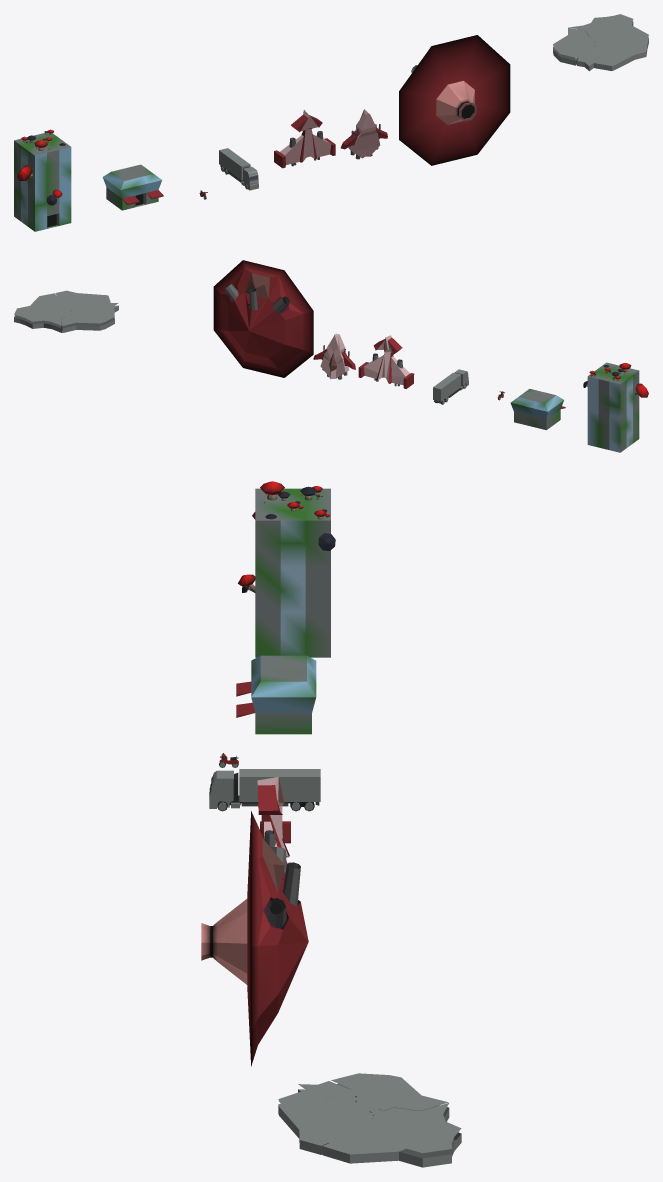
The model's file is naveRotation.fbx.
3 views of the same model, one above another, from view 1: azimuth 30°, elevation 25°; view 2: azimuth 150°, elevation 25°; view 3: azimuth 270°, elevation 25° (orthographic). The views are drawn at different scales.
Visible parts, largest first — view 1: AirshipMushroom, BuildingMushroom, StoreOld, EnemyKABOOM, MapDistrictTwo, MapDistrictThree, EnemyMENACE, TruckBig, MapDistrictOne; view 2: AirshipMushroom, BuildingMushroom, StoreOld, EnemyKABOOM, MapDistrictThree, EnemyMENACE, MapDistrictOne, MapDistrictTwo, TruckBig; view 3: BuildingMushroom, AirshipMushroom, MapDistrictThree, StoreOld, MapDistrictTwo, TruckBig, MapDistrictOne, EnemyKABOOM.
Part boxes in pixels (left/top/right/bottom): AirshipMushroom: left=399, top=35, right=510, bottom=165; BuildingMushroom: left=14, top=129, right=71, bottom=231; StoreOld: left=102, top=164, right=163, bottom=210; EnemyKABOOM: left=274, top=110, right=335, bottom=168; MapDistrictTwo: left=577, top=38, right=647, bottom=71; MapDistrictThree: left=569, top=14, right=648, bottom=48; EnemyMENACE: left=340, top=109, right=387, bottom=159; TruckBig: left=219, top=148, right=258, bottom=190; MapDistrictOne: left=553, top=27, right=595, bottom=65; AirshipMushroom: left=213, top=260, right=313, bottom=377; BuildingMushroom: left=583, top=362, right=648, bottom=452; StoreOld: left=510, top=389, right=565, bottom=430; EnemyKABOOM: left=358, top=335, right=414, bottom=388; MapDistrictThree: left=14, top=293, right=73, bottom=332; EnemyMENACE: left=313, top=333, right=355, bottom=379; MapDistrictOne: left=61, top=309, right=114, bottom=332; MapDistrictTwo: left=55, top=290, right=118, bottom=312; TruckBig: left=433, top=369, right=468, bottom=404; BuildingMushroom: left=238, top=481, right=335, bottom=657; AirshipMushroom: left=201, top=811, right=308, bottom=1066; MapDistrictThree: left=322, top=1103, right=461, bottom=1167; StoreOld: left=236, top=655, right=316, bottom=734; MapDistrictTwo: left=278, top=1081, right=375, bottom=1154; TruckBig: left=209, top=769, right=320, bottom=811; MapDistrictOne: left=331, top=1073, right=448, bottom=1112; EnemyKABOOM: left=257, top=777, right=290, bottom=867.
Bounding box in the file's own units: 14455 × 2518 × 2752.
